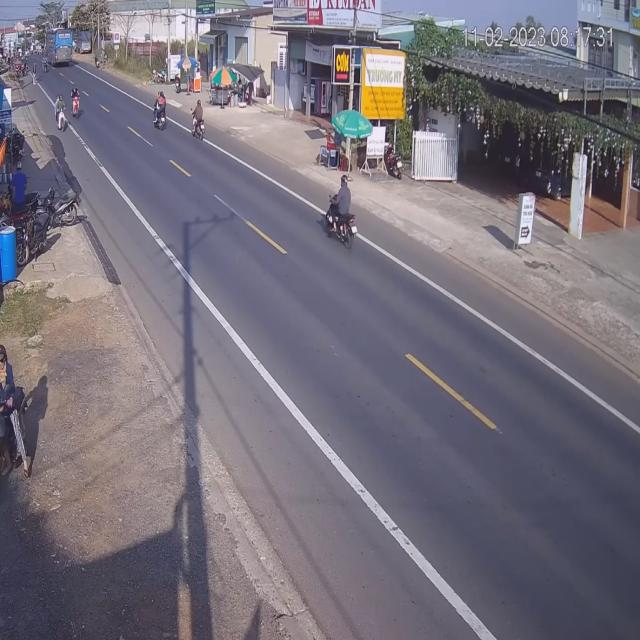bus: (42, 27, 74, 68)
motorbike: (0, 342, 27, 472), (324, 176, 362, 251), (192, 99, 206, 147), (155, 91, 169, 131), (56, 96, 66, 132), (70, 87, 80, 119)
